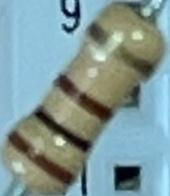Black: (28, 104, 95, 158)
Brown: (5, 127, 78, 188), (50, 71, 118, 125)
Side-Gold: (82, 17, 159, 81)
